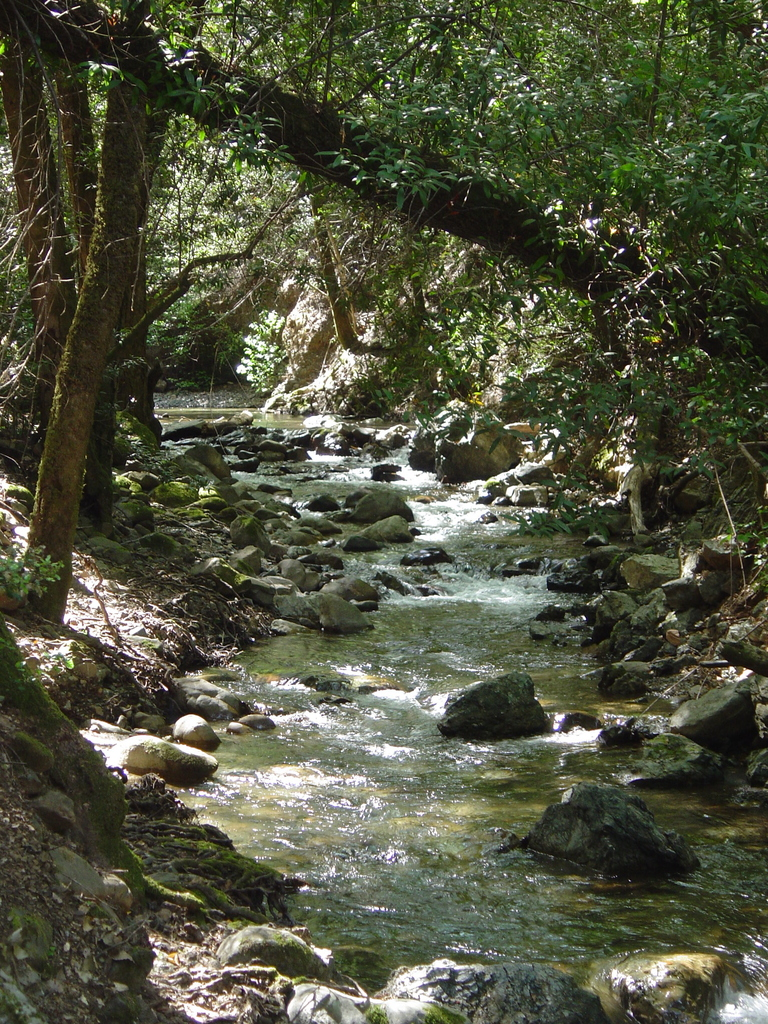Tree: (0, 0, 768, 623)
